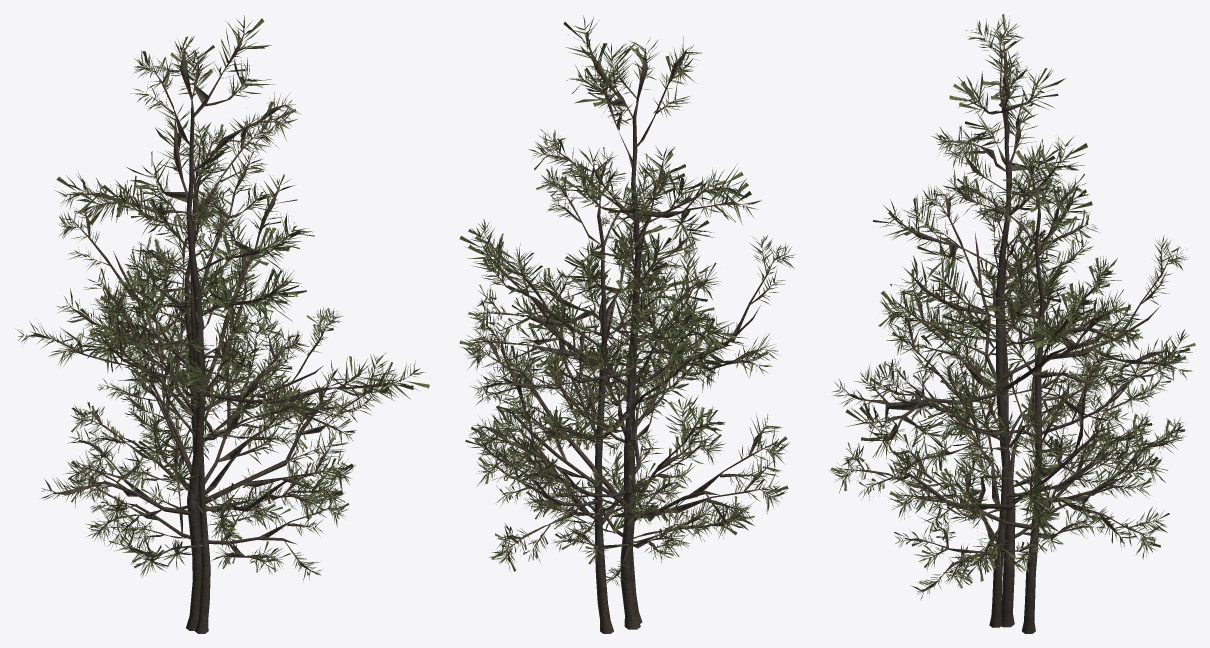
The model's file is pine_trees.glb.
The picture shows the model from 3 angles, left to right: view 1: azimuth 30°, elevation 25°; view 2: azimuth 150°, elevation 25°; view 3: azimuth 270°, elevation 25°; orthographic projection.
Visible parts, largest first — view 1: pine_a, pine_b, pine_c; view 2: pine_a, pine_b, pine_c; view 3: pine_a, pine_b, pine_c.
Boxes of the visible parts, x1=… form: pine_a: x1=15, y1=15, x2=429, y2=630; pine_b: x1=57, y1=121, x2=356, y2=550; pine_c: x1=68, y1=190, x2=349, y2=633; pine_a: x1=459, y1=15, x2=795, y2=629; pine_b: x1=465, y1=147, x2=725, y2=633; pine_c: x1=494, y1=180, x2=754, y2=623; pine_a: x1=833, y1=14, x2=1192, y2=627; pine_b: x1=829, y1=154, x2=1195, y2=633; pine_c: x1=865, y1=185, x2=1153, y2=627.
Size of the model in its own units: 0.7826 by 1.3 by 0.728.
2 materials, 2 textured.
